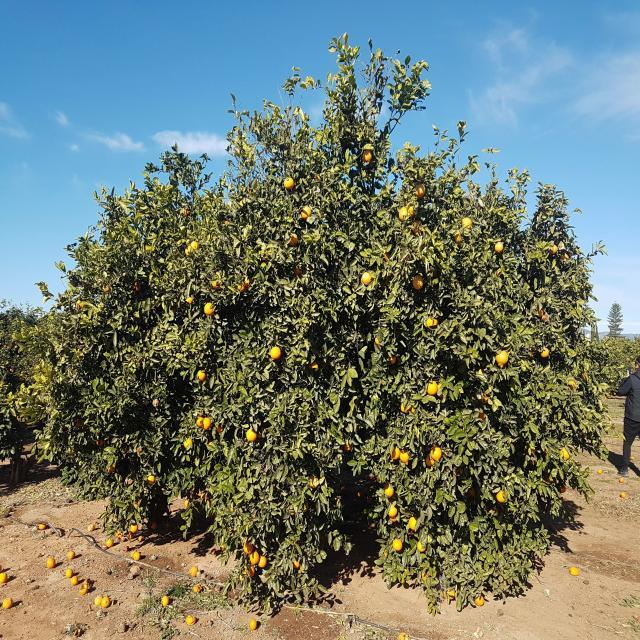Jeruk Sudah Matang: (496, 350, 508, 368), (398, 206, 411, 222), (406, 200, 418, 215), (246, 428, 258, 442), (301, 206, 312, 220), (362, 272, 373, 286), (412, 275, 423, 289), (431, 446, 442, 460), (288, 232, 298, 247), (412, 219, 422, 234), (427, 380, 437, 395), (2, 597, 14, 609), (426, 316, 438, 328), (270, 346, 281, 359), (204, 302, 214, 316), (250, 550, 260, 564), (415, 183, 425, 197), (390, 446, 400, 460), (384, 483, 394, 497), (410, 516, 420, 530), (248, 618, 258, 631), (400, 450, 410, 463), (393, 538, 403, 551), (436, 384, 446, 397), (496, 490, 506, 503), (560, 446, 570, 459), (310, 474, 319, 488), (244, 542, 254, 554), (284, 178, 294, 190), (400, 401, 410, 413), (388, 504, 398, 516), (474, 594, 484, 606), (462, 218, 472, 230), (204, 417, 212, 431), (76, 299, 86, 310), (101, 597, 111, 608), (184, 293, 194, 304), (197, 370, 207, 381), (184, 437, 194, 448), (212, 279, 222, 290), (185, 245, 194, 257), (294, 264, 303, 276), (363, 150, 372, 162), (426, 454, 435, 466), (196, 414, 204, 427), (258, 555, 266, 568), (244, 276, 254, 286), (308, 360, 318, 370), (343, 442, 353, 452), (453, 466, 463, 476), (567, 380, 577, 390), (540, 347, 550, 357), (190, 566, 199, 577), (95, 594, 103, 606), (418, 540, 426, 552), (447, 588, 455, 600), (455, 230, 463, 242), (221, 218, 230, 228), (0, 572, 8, 583), (247, 566, 255, 577), (292, 558, 300, 569), (237, 281, 245, 292), (388, 354, 396, 365), (536, 306, 544, 317), (181, 207, 190, 216), (549, 244, 558, 253), (108, 464, 116, 474), (48, 558, 56, 568), (70, 576, 78, 586), (162, 596, 170, 606), (106, 538, 114, 548), (130, 524, 138, 534), (190, 240, 198, 250), (391, 513, 399, 523), (496, 242, 504, 252), (482, 392, 490, 402), (528, 456, 538, 464), (545, 472, 553, 482), (302, 502, 309, 513), (133, 552, 141, 561), (290, 504, 296, 516), (66, 568, 73, 578), (186, 498, 193, 508), (479, 410, 486, 420), (96, 438, 104, 446), (38, 522, 46, 530), (104, 284, 112, 292), (216, 426, 224, 434), (314, 174, 322, 182), (526, 447, 534, 455), (561, 253, 569, 261), (134, 282, 141, 291), (148, 475, 154, 485), (376, 334, 382, 344), (151, 522, 158, 530), (422, 572, 428, 581), (128, 532, 134, 540), (478, 368, 484, 376), (560, 485, 566, 493), (620, 492, 626, 498), (77, 420, 82, 427), (139, 536, 144, 542), (357, 492, 362, 497), (598, 469, 602, 474), (620, 478, 624, 483), (341, 487, 345, 490), (6, 362, 10, 364), (15, 346, 18, 348), (10, 368, 12, 371), (12, 370, 14, 372)
